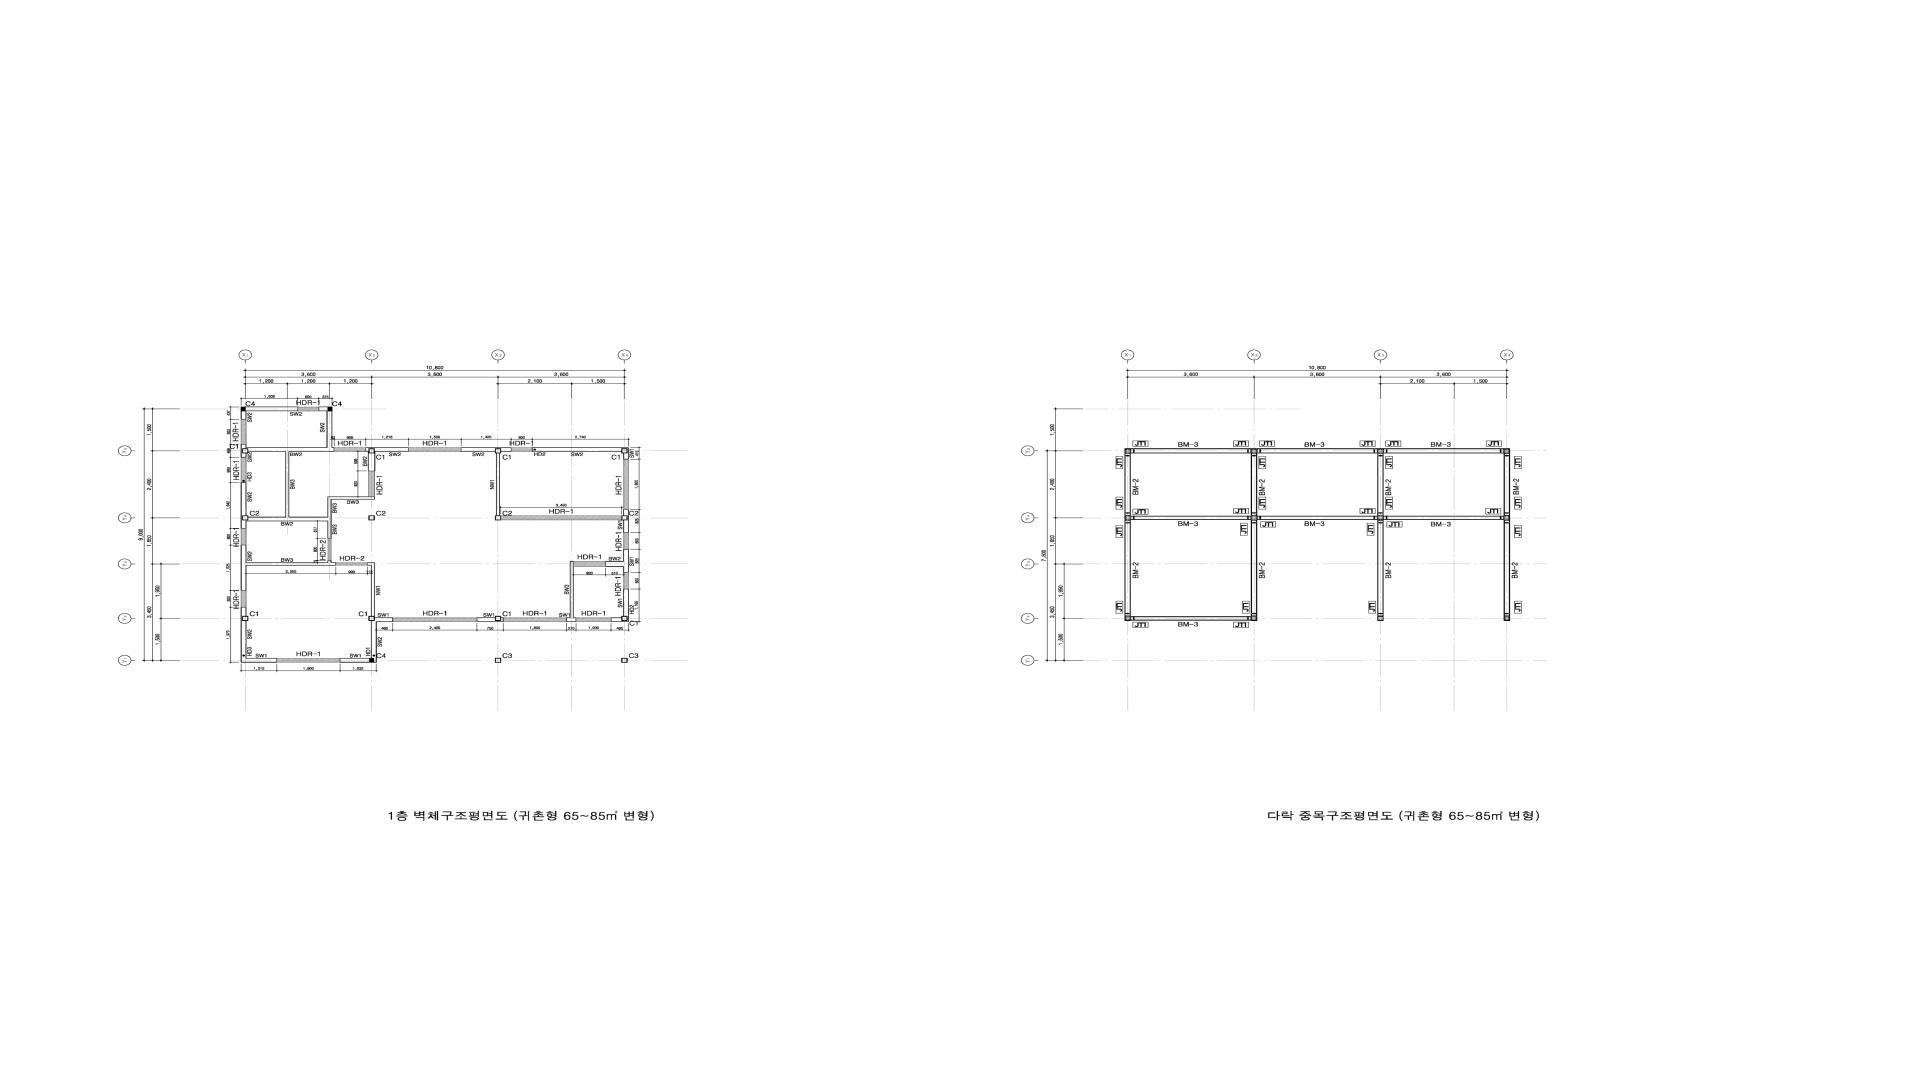door: (501, 516, 621, 521), (368, 471, 375, 497), (574, 562, 605, 567), (336, 563, 367, 566), (328, 538, 331, 560)
wall: (1377, 520, 1383, 621), (1503, 520, 1510, 621), (1130, 448, 1251, 454), (1257, 448, 1378, 454), (1130, 616, 1250, 621), (1383, 448, 1503, 454), (1125, 521, 1131, 616), (1251, 520, 1257, 616), (531, 447, 624, 452), (1131, 516, 1251, 520), (1257, 516, 1377, 520), (1383, 516, 1503, 520), (247, 447, 327, 452), (1125, 454, 1131, 516), (1250, 454, 1257, 516), (1377, 454, 1383, 516), (1503, 454, 1510, 516), (247, 562, 336, 566), (247, 517, 327, 521), (241, 607, 247, 663), (241, 406, 298, 411), (371, 622, 377, 663), (462, 447, 512, 452), (285, 452, 289, 517), (496, 454, 500, 516), (241, 545, 247, 591), (241, 483, 247, 529), (365, 447, 409, 452), (570, 560, 574, 617), (327, 406, 332, 447), (327, 497, 332, 538), (371, 566, 375, 617), (247, 658, 277, 663), (340, 658, 371, 663), (624, 589, 629, 617), (368, 452, 376, 471), (477, 617, 504, 622), (624, 549, 629, 572), (624, 509, 629, 533), (605, 560, 624, 567), (371, 617, 393, 622), (332, 497, 375, 500), (611, 617, 629, 622), (241, 444, 247, 458), (624, 447, 629, 459), (566, 617, 576, 622), (327, 447, 335, 452), (319, 406, 327, 411), (241, 411, 247, 419), (495, 516, 501, 521), (1250, 616, 1257, 621), (1125, 616, 1131, 621), (1125, 516, 1131, 521), (1250, 448, 1257, 454), (1377, 448, 1383, 454), (1503, 448, 1510, 454), (367, 562, 375, 566), (1125, 448, 1130, 454), (1250, 516, 1257, 520), (1377, 516, 1383, 520), (1503, 516, 1510, 520), (495, 452, 501, 454), (327, 560, 331, 562)
window: (393, 617, 477, 622), (277, 658, 340, 663), (504, 617, 566, 622), (409, 447, 462, 452), (624, 459, 629, 509), (576, 617, 611, 622), (335, 447, 365, 452), (241, 419, 247, 444), (241, 458, 247, 483), (298, 406, 319, 411), (512, 447, 531, 452), (624, 572, 629, 588), (241, 591, 247, 607), (624, 533, 629, 549), (241, 529, 247, 545)
